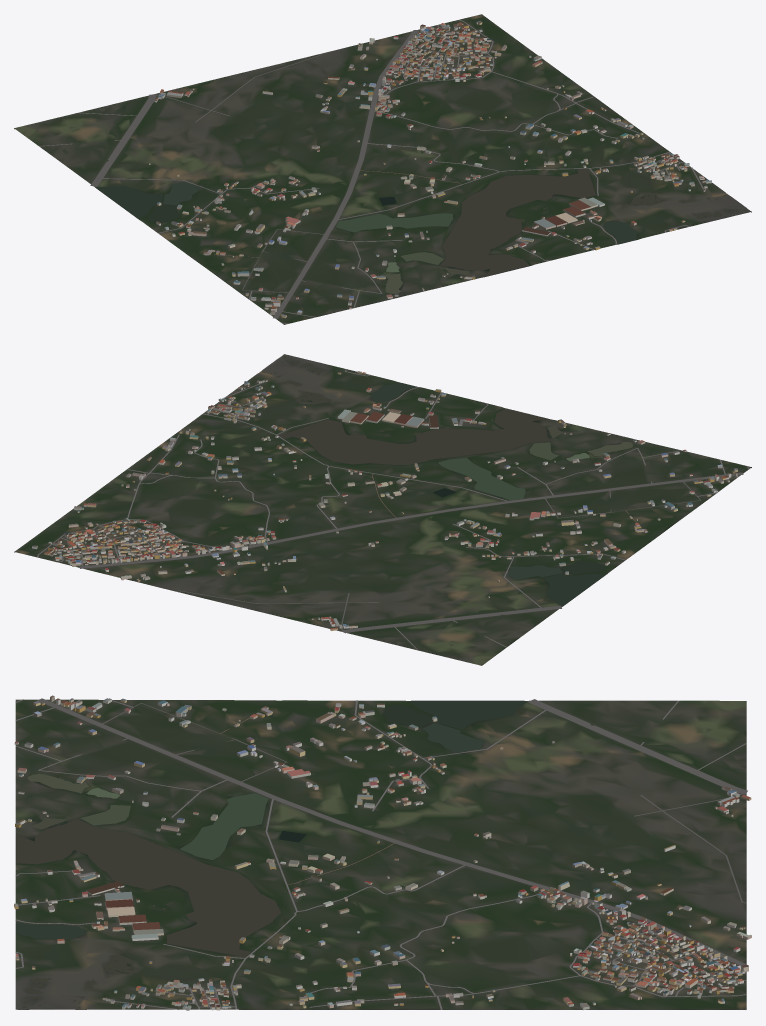
The picture shows the model from 3 angles, top to bottom: view 1: azimuth 30°, elevation 25°; view 2: azimuth 150°, elevation 25°; view 3: azimuth 270°, elevation 25°; orthographic projection. The views are drawn at different scales.
Visible parts, largest first — view 1: ground, water, buildings, roads; view 2: ground, buildings, water, roads; view 3: ground, water, buildings, roads.
Boxes of the visible parts, x1=… form: ground: x1=14, y1=14, x2=751, y2=324; water: x1=96, y1=169, x2=746, y2=294; buildings: x1=149, y1=21, x2=711, y2=318; roads: x1=39, y1=14, x2=703, y2=323; ground: x1=14, y1=354, x2=751, y2=665; buildings: x1=32, y1=371, x2=738, y2=630; water: x1=262, y1=356, x2=633, y2=605; roads: x1=14, y1=369, x2=749, y2=650; ground: x1=15, y1=699, x2=746, y2=1009; water: x1=16, y1=700, x2=526, y2=1008; buildings: x1=14, y1=695, x2=751, y2=1010; roads: x1=15, y1=698, x2=748, y2=1009.
Size of the model in its own units: 1412 by 17.53 by 1416.
